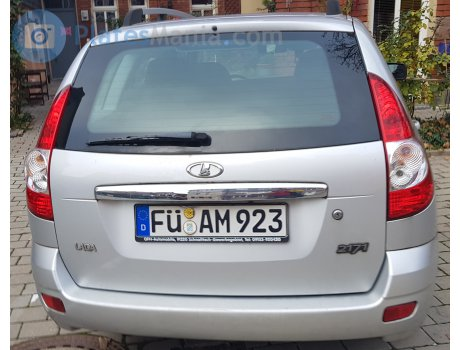License Plates: (149, 204, 283, 235)
